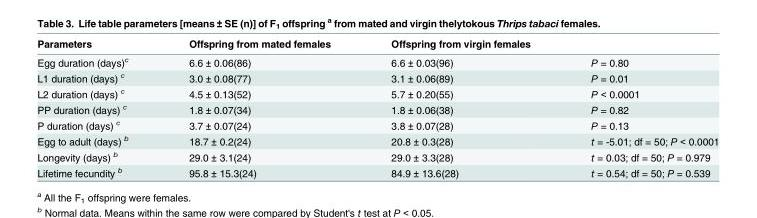table: (36, 37, 718, 178)
table column: (157, 37, 360, 178), (360, 37, 560, 178), (560, 37, 718, 178), (36, 37, 157, 178)
table column header: (36, 37, 718, 51)
table row: (36, 51, 718, 69), (36, 69, 718, 85), (36, 85, 718, 101), (36, 116, 718, 132), (36, 132, 718, 148), (36, 148, 718, 164), (36, 101, 718, 116), (36, 37, 718, 51), (36, 164, 718, 178)
